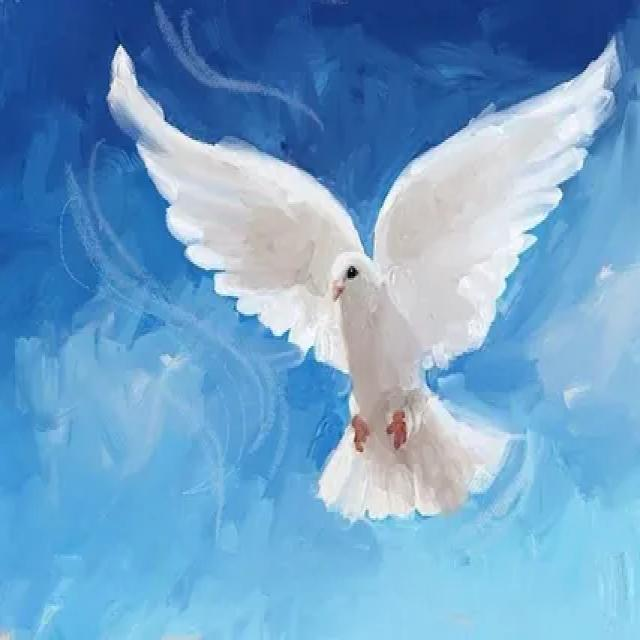pigeon: (93, 16, 622, 524)
